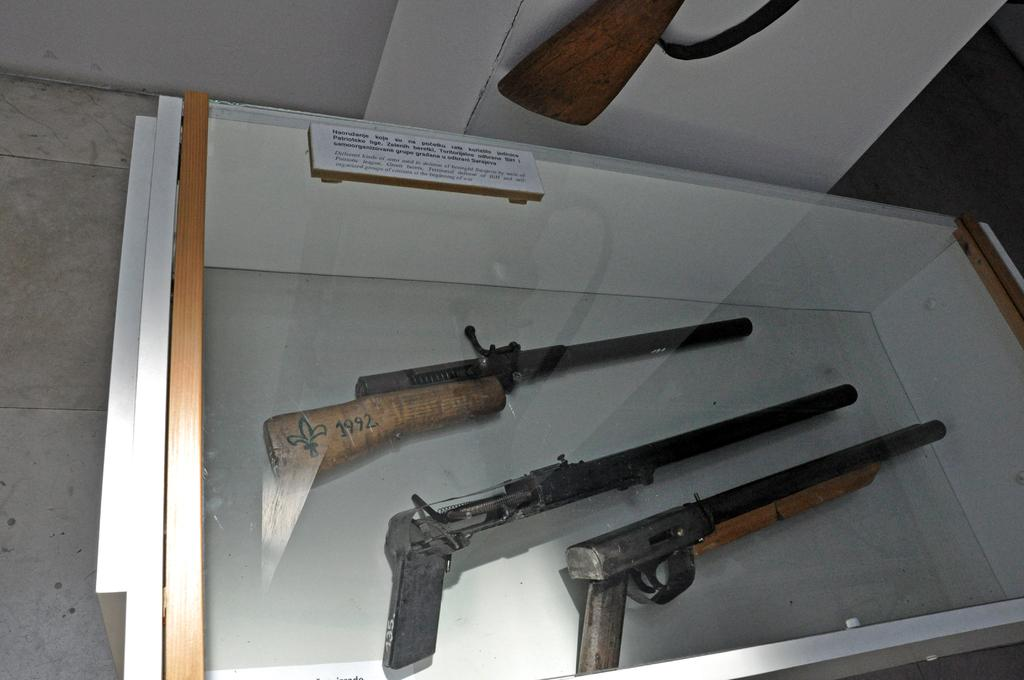Rifle: (334, 384, 958, 647), (255, 320, 758, 489)
